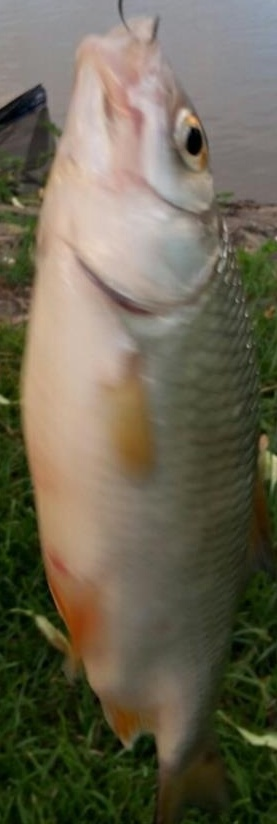Rutilus rutilus: (20, 20, 257, 824)
